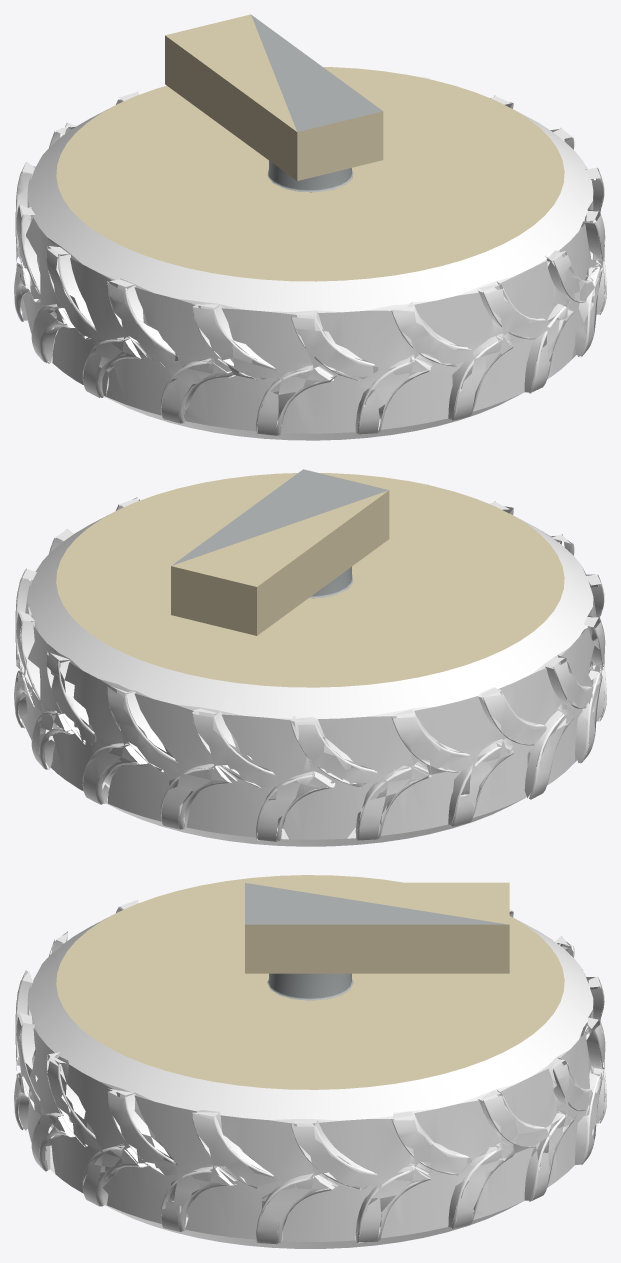
File: rear_right_wheel_visual.obj
The picture shows the model from 3 angles, top to bottom: view 1: azimuth 30°, elevation 25°; view 2: azimuth 150°, elevation 25°; view 3: azimuth 270°, elevation 25°; orthographic projection.
Visible parts, largest first — view 1: rear_right_wheel_visual; view 2: rear_right_wheel_visual; view 3: rear_right_wheel_visual.
Part boxes in pixels (x1,y1,x2,y2): rear_right_wheel_visual: [14, 14, 606, 440]; rear_right_wheel_visual: [14, 469, 606, 846]; rear_right_wheel_visual: [14, 875, 606, 1248].
Size of the model in its own units: 0.3424 by 0.159 by 0.3425.
